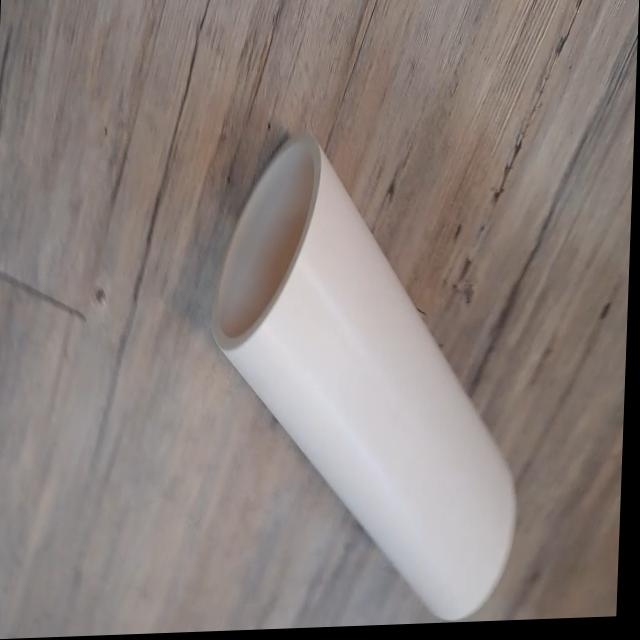CORAL: (201, 108, 542, 632)
